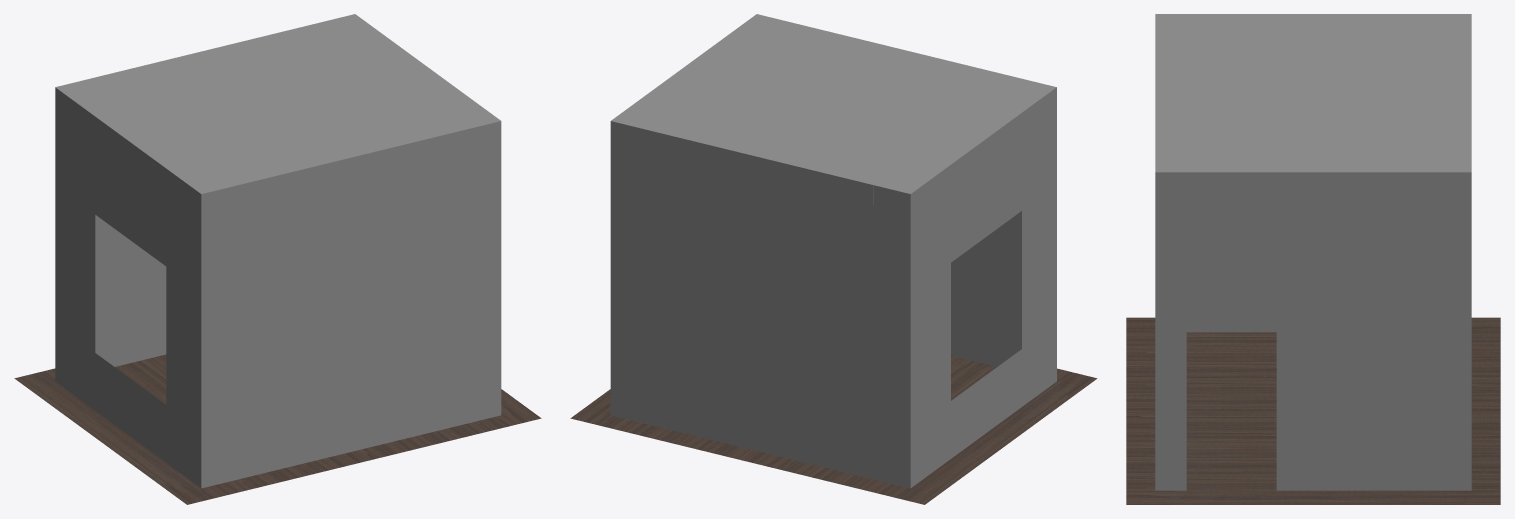
The model's file is building1.FBX.
3 views of the same model, side by side, from view 1: azimuth 30°, elevation 25°; view 2: azimuth 150°, elevation 25°; view 3: azimuth 270°, elevation 25° (orthographic). The views are drawn at different scales.
Visible parts, largest first — view 1: Box009, Plane004; view 2: Box009, Plane004, Box012; view 3: Box009, Plane004.
Boxes of the visible parts, left/top/right/bottom form: Box009: left=55, top=14, right=501, bottom=488; Plane004: left=14, top=354, right=541, bottom=504; Box009: left=610, top=14, right=1056, bottom=488; Plane004: left=570, top=355, right=1097, bottom=504; Box012: left=611, top=121, right=873, bottom=204; Box009: left=1155, top=14, right=1471, bottom=490; Plane004: left=1126, top=317, right=1500, bottom=504.
Bounding box in the file's own units: 378 × 300 × 319.
Materials: 2 (1 with a texture image).
